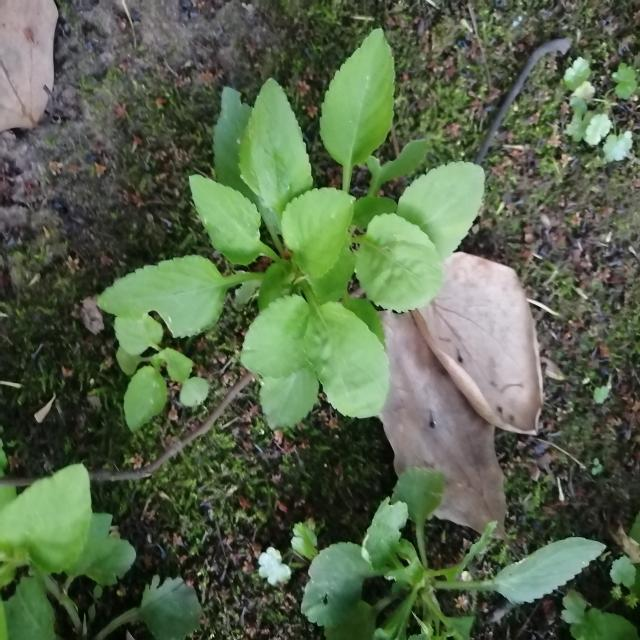Viola: (101, 27, 444, 426)
